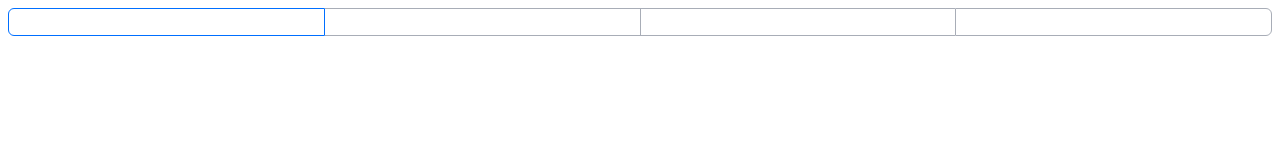
<ReactCodeInput /> tests › should split long values
In the 1st field: (166, 22) [8,8,325,36], type "1111"
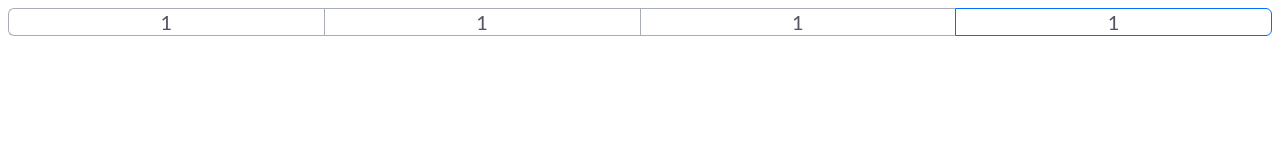
Expected: the 1st field holds "1", [8,8,324,36]
Expected: the 2nd field holds "1", [324,8,640,36]
Expected: the 3rd field holds "1", [640,8,955,36]
